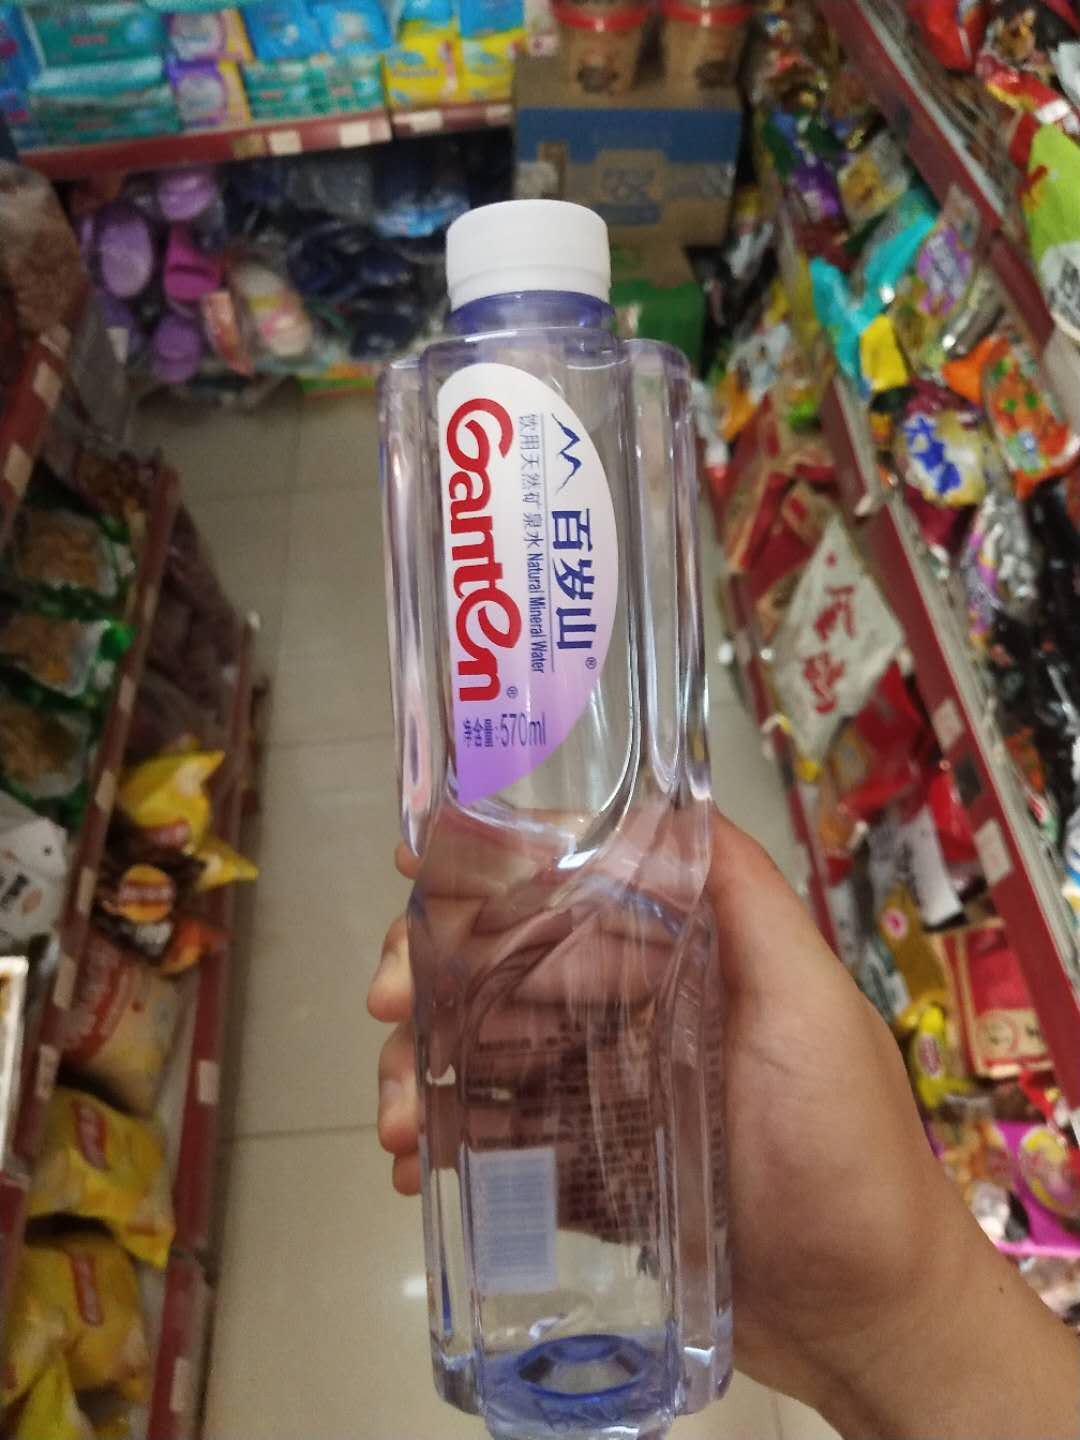百岁山: (361, 207, 741, 1424)
